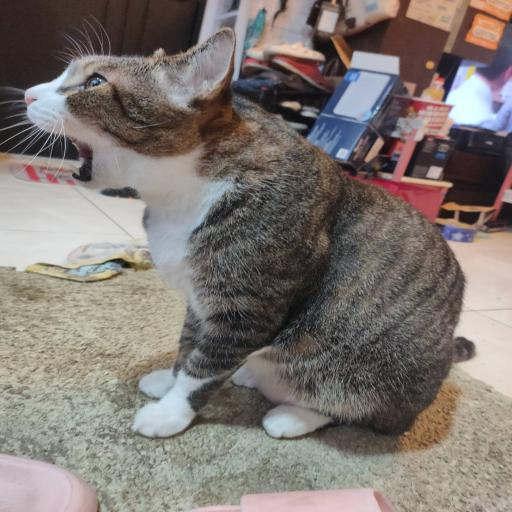cat: (32, 64, 466, 436)
